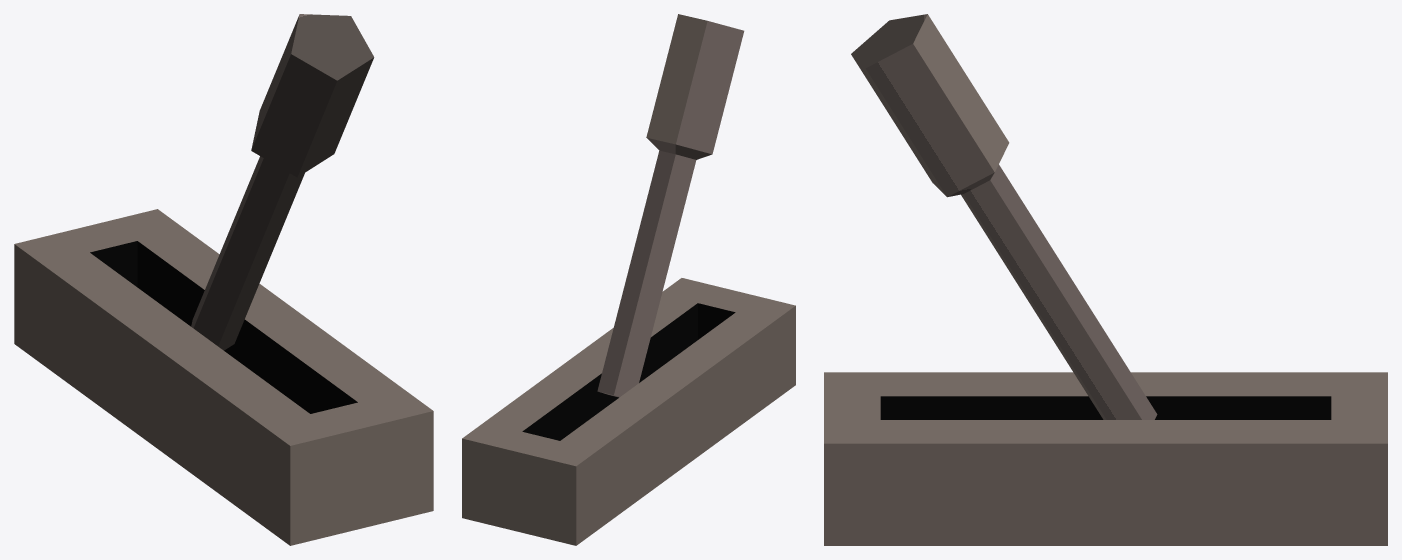
Rendered from lever_787x00.gltf.
3 views of the same model, side by side, from view 1: azimuth 30°, elevation 25°; view 2: azimuth 150°, elevation 25°; view 3: azimuth 270°, elevation 25° (orthographic). The views are drawn at different scales.
Parts seen in each view (by area): view 1: Lever_787x0; view 2: Lever_787x0; view 3: Lever_787x0.
Part boxes in pixels (left/top/right/bottom): Lever_787x0: left=14, top=14, right=433, bottom=545; Lever_787x0: left=462, top=14, right=795, bottom=545; Lever_787x0: left=824, top=14, right=1387, bottom=545.
Size of the model in its own units: 0.3 by 0.9602 by 1.
1 material, 1 textured.
